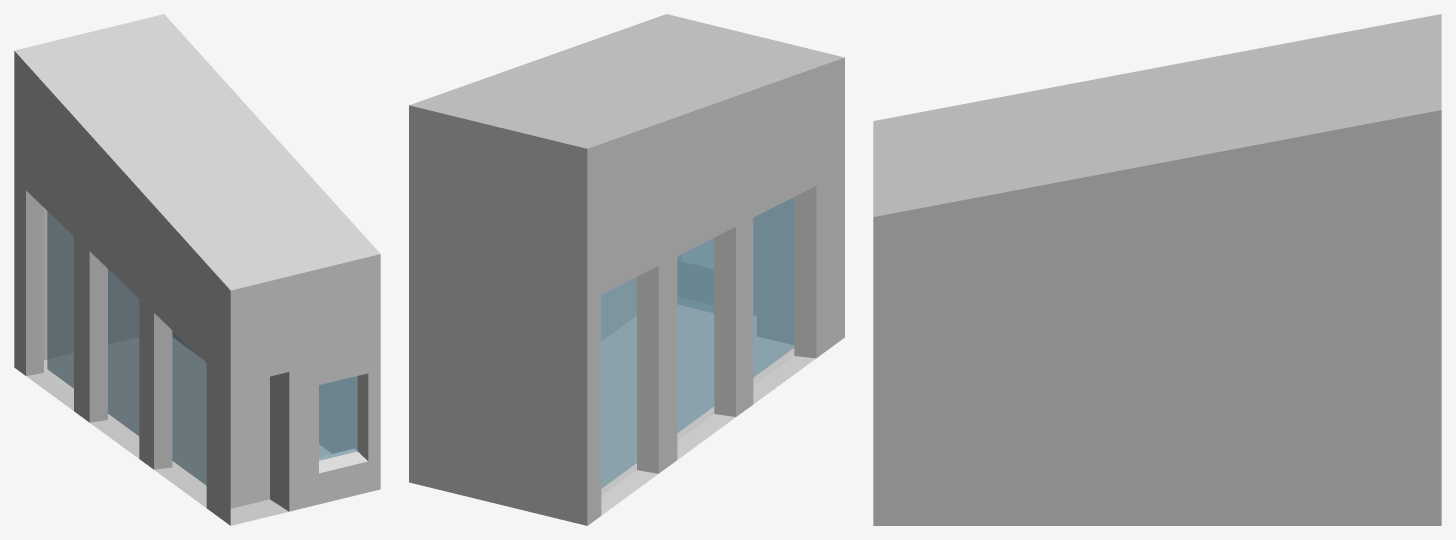
File: Store0.fbx
3 renders of one model, left to right at view 1: azimuth 30°, elevation 25°; view 2: azimuth 150°, elevation 25°; view 3: azimuth 270°, elevation 25°, orthographic. The views are drawn at different scales.
Visible parts, largest first — view 1: pCube11, pPlane4, pPlane5; view 2: pCube11, pPlane4, pPlane5; view 3: pCube11.
Boxes of the visible parts, x1,y1,x2,y2 form: pCube11: [14, 14, 380, 525]; pPlane4: [47, 211, 206, 485]; pPlane5: [319, 376, 357, 460]; pCube11: [409, 14, 844, 525]; pPlane4: [601, 197, 794, 488]; pPlane5: [678, 238, 713, 312]; pCube11: [873, 14, 1441, 525].
Bounding box in the file's own units: 20 × 40.66 × 50.
